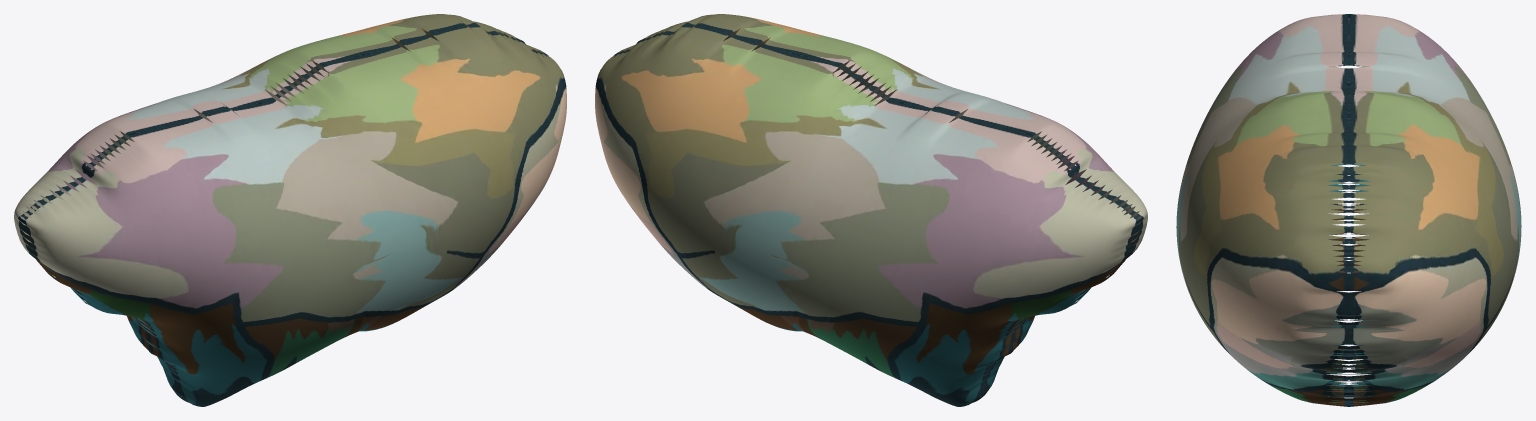
File: stone_ledge.glb
3 views of the same model, side by side, from view 1: azimuth 30°, elevation 25°; view 2: azimuth 150°, elevation 25°; view 3: azimuth 270°, elevation 25° (orthographic). The views are drawn at different scales.
Visible parts, largest first — view 1: stone_ledge; view 2: stone_ledge; view 3: stone_ledge.
Part boxes in pixels (left/top/right/bottom): stone_ledge: left=14, top=14, right=566, bottom=406; stone_ledge: left=595, top=14, right=1147, bottom=406; stone_ledge: left=1176, top=14, right=1521, bottom=406.
Size of the model in its own units: 0.9887 by 0.5533 by 0.5073.
1 material, 1 textured.
